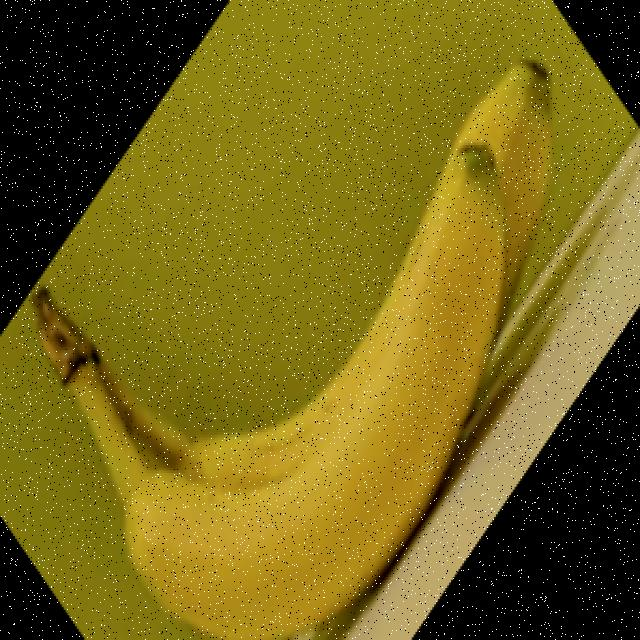god quality banana: (32, 63, 554, 639)
